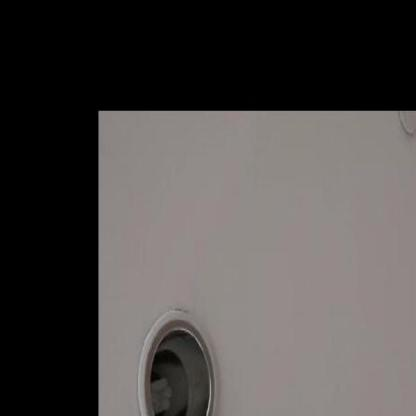light_off: (97, 270, 234, 414)
